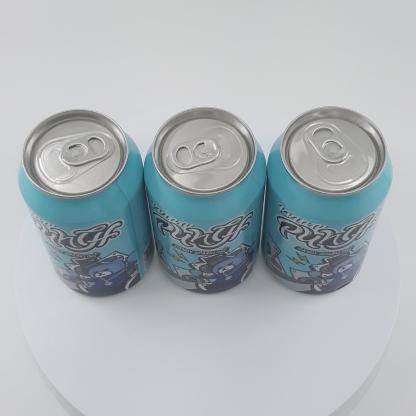-----------------350ML: (18, 109, 155, 297), (262, 106, 392, 294), (144, 106, 265, 294)
